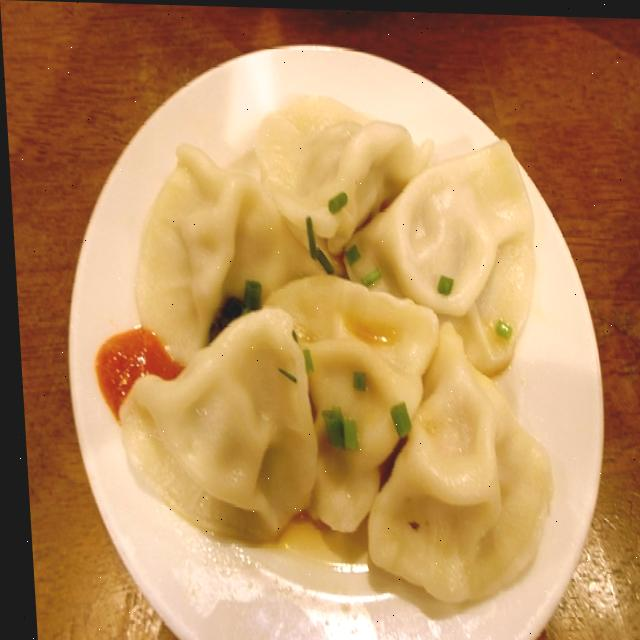带馅早点: (84, 77, 558, 606)
